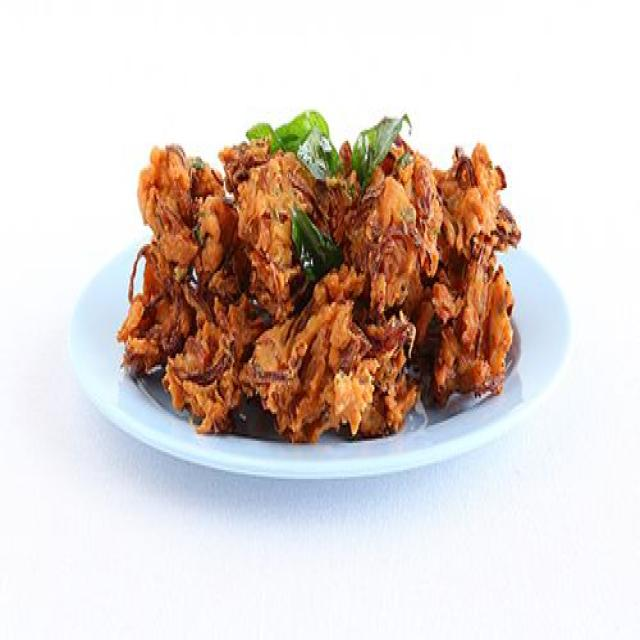BAJI: (120, 102, 526, 450)
